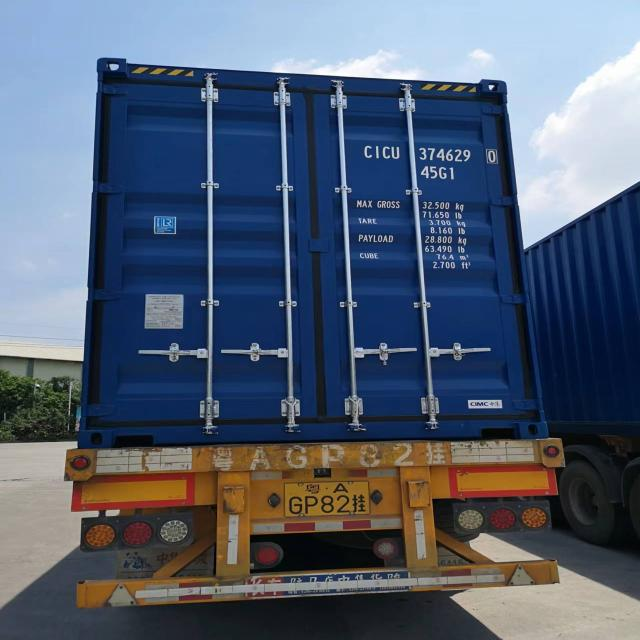seal: (376, 339, 393, 372)
